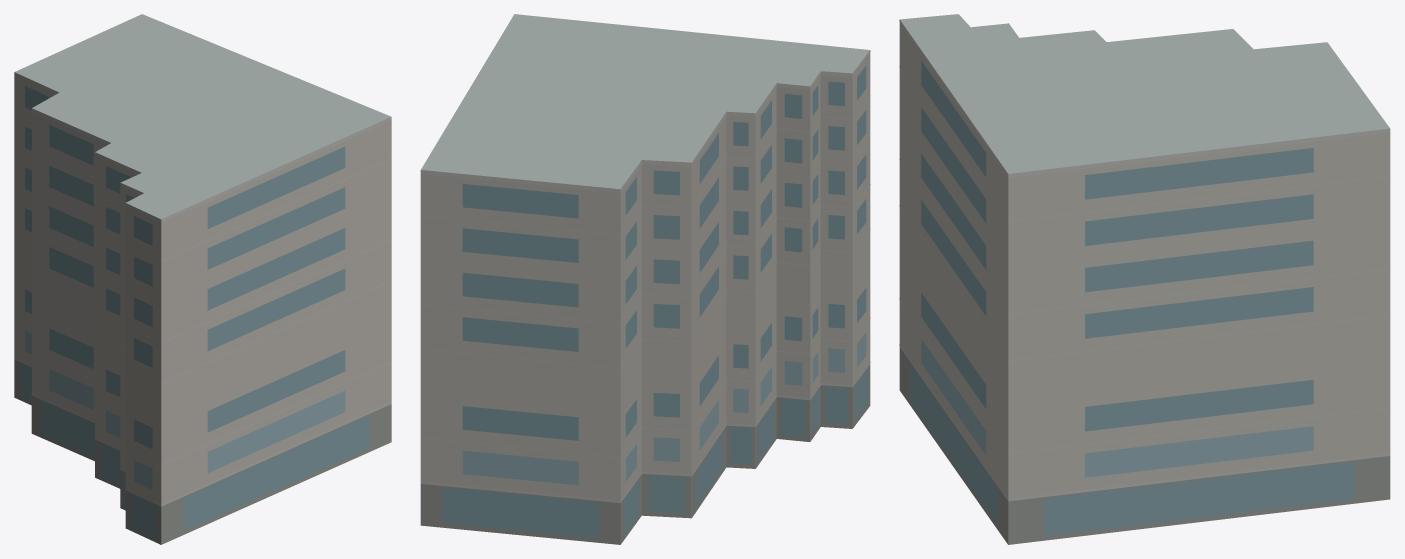
File: survey-upis-32769779.glb
3 renders of one model, left to right at view 1: azimuth 30°, elevation 25°; view 2: azimuth 150°, elevation 25°; view 3: azimuth 270°, elevation 25°, orthographic. The views are drawn at different scales.
Visible parts, largest first — view 1: survey-upis-32769779.tmp; view 2: survey-upis-32769779.tmp; view 3: survey-upis-32769779.tmp.
Part boxes in pixels (bbox=[...]): survey-upis-32769779.tmp: bbox=[14, 14, 391, 544]; survey-upis-32769779.tmp: bbox=[420, 14, 870, 544]; survey-upis-32769779.tmp: bbox=[899, 14, 1390, 544].
Size of the model in its own units: 20.05 by 21.65 by 25.97.
